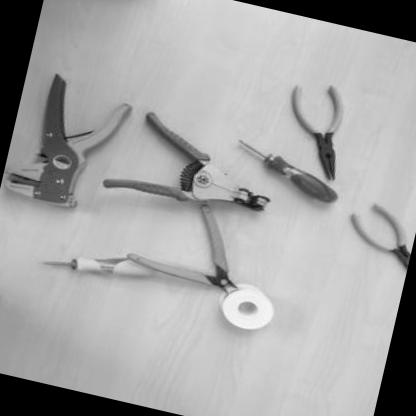Screwdriver: (225, 135, 349, 213), (35, 234, 167, 298)
